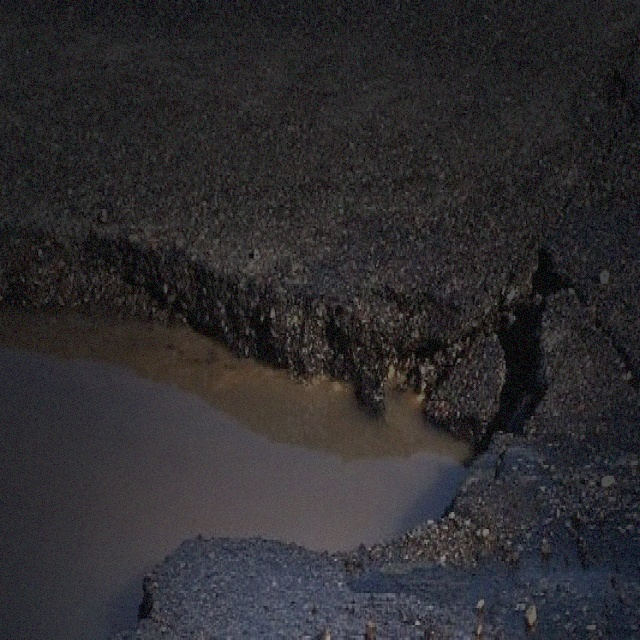pothole: (0, 213, 561, 638)
